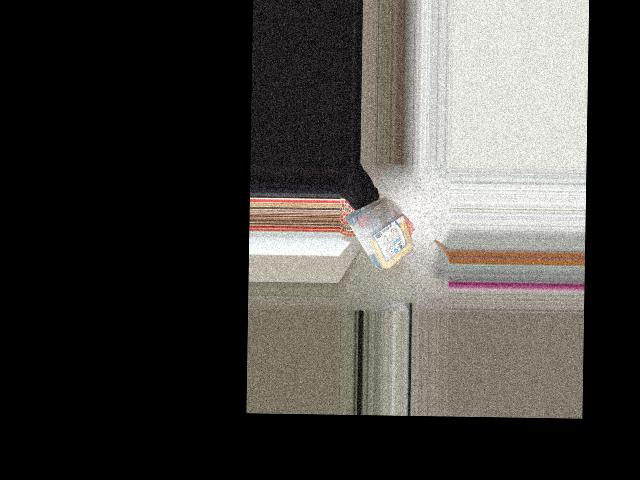cheese: (349, 197, 414, 274)
